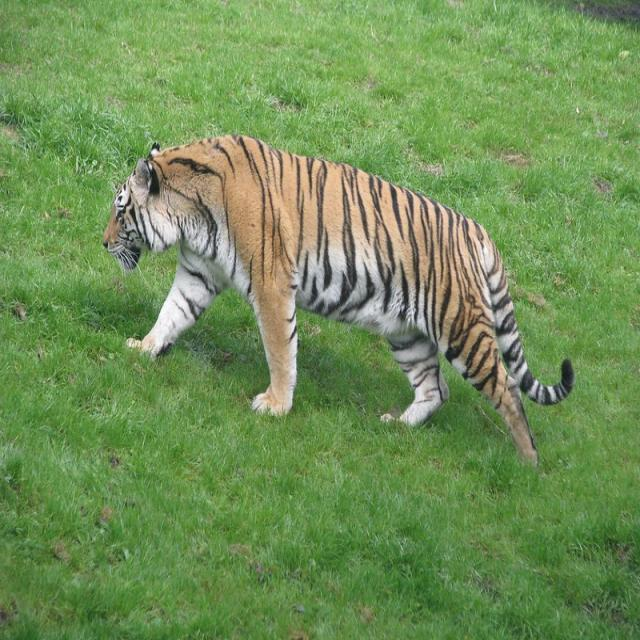Tiger: (90, 124, 572, 479)
